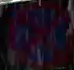No waiting: (5, 0, 70, 69)
